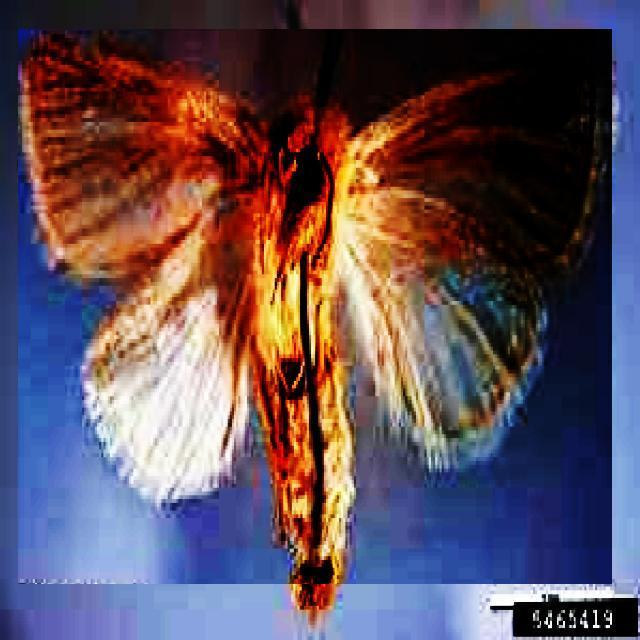stem-borer: (19, 29, 613, 584)
